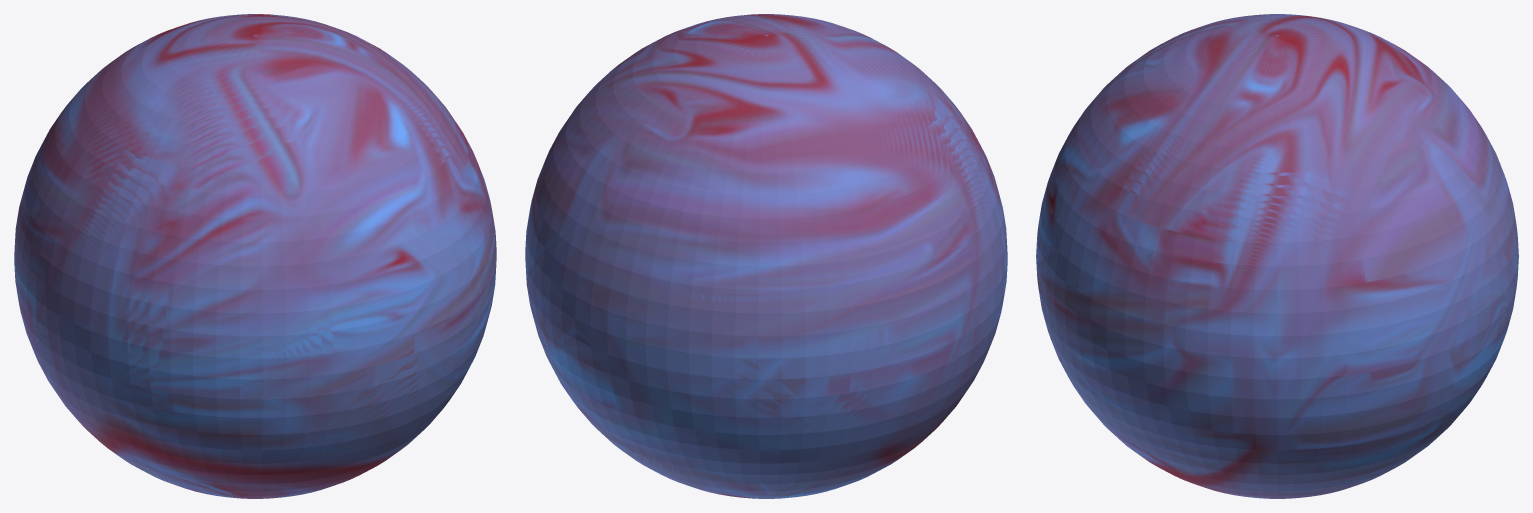
Rendered from bomb.obj.
3 views of the same model, side by side, from view 1: azimuth 30°, elevation 25°; view 2: azimuth 150°, elevation 25°; view 3: azimuth 270°, elevation 25° (orthographic).
Visible parts, largest first — view 1: 球; view 2: 球; view 3: 球.
Boxes of the visible parts, x1,y1,x2,y2 form: 球: (14, 14, 496, 498); 球: (525, 14, 1007, 498); 球: (1036, 14, 1518, 498).
Bounding box in the file's own units: 1.97 × 2 × 1.97.
Materials: 1 (1 with a texture image).
